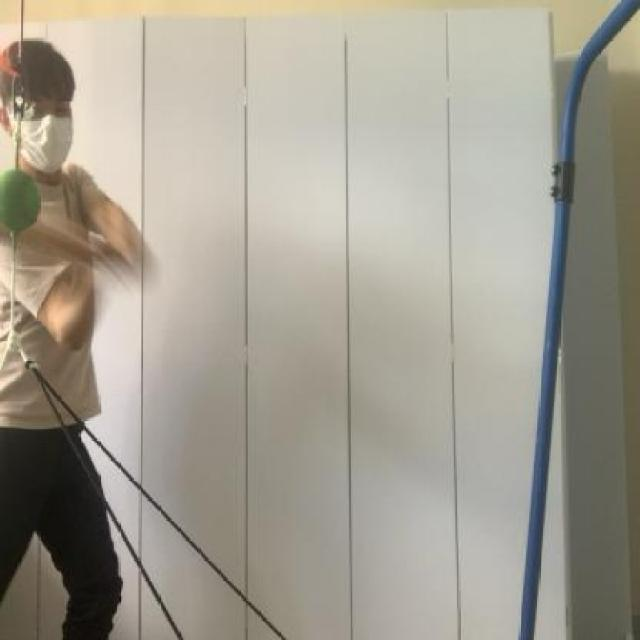baseball: (0, 162, 49, 242)
